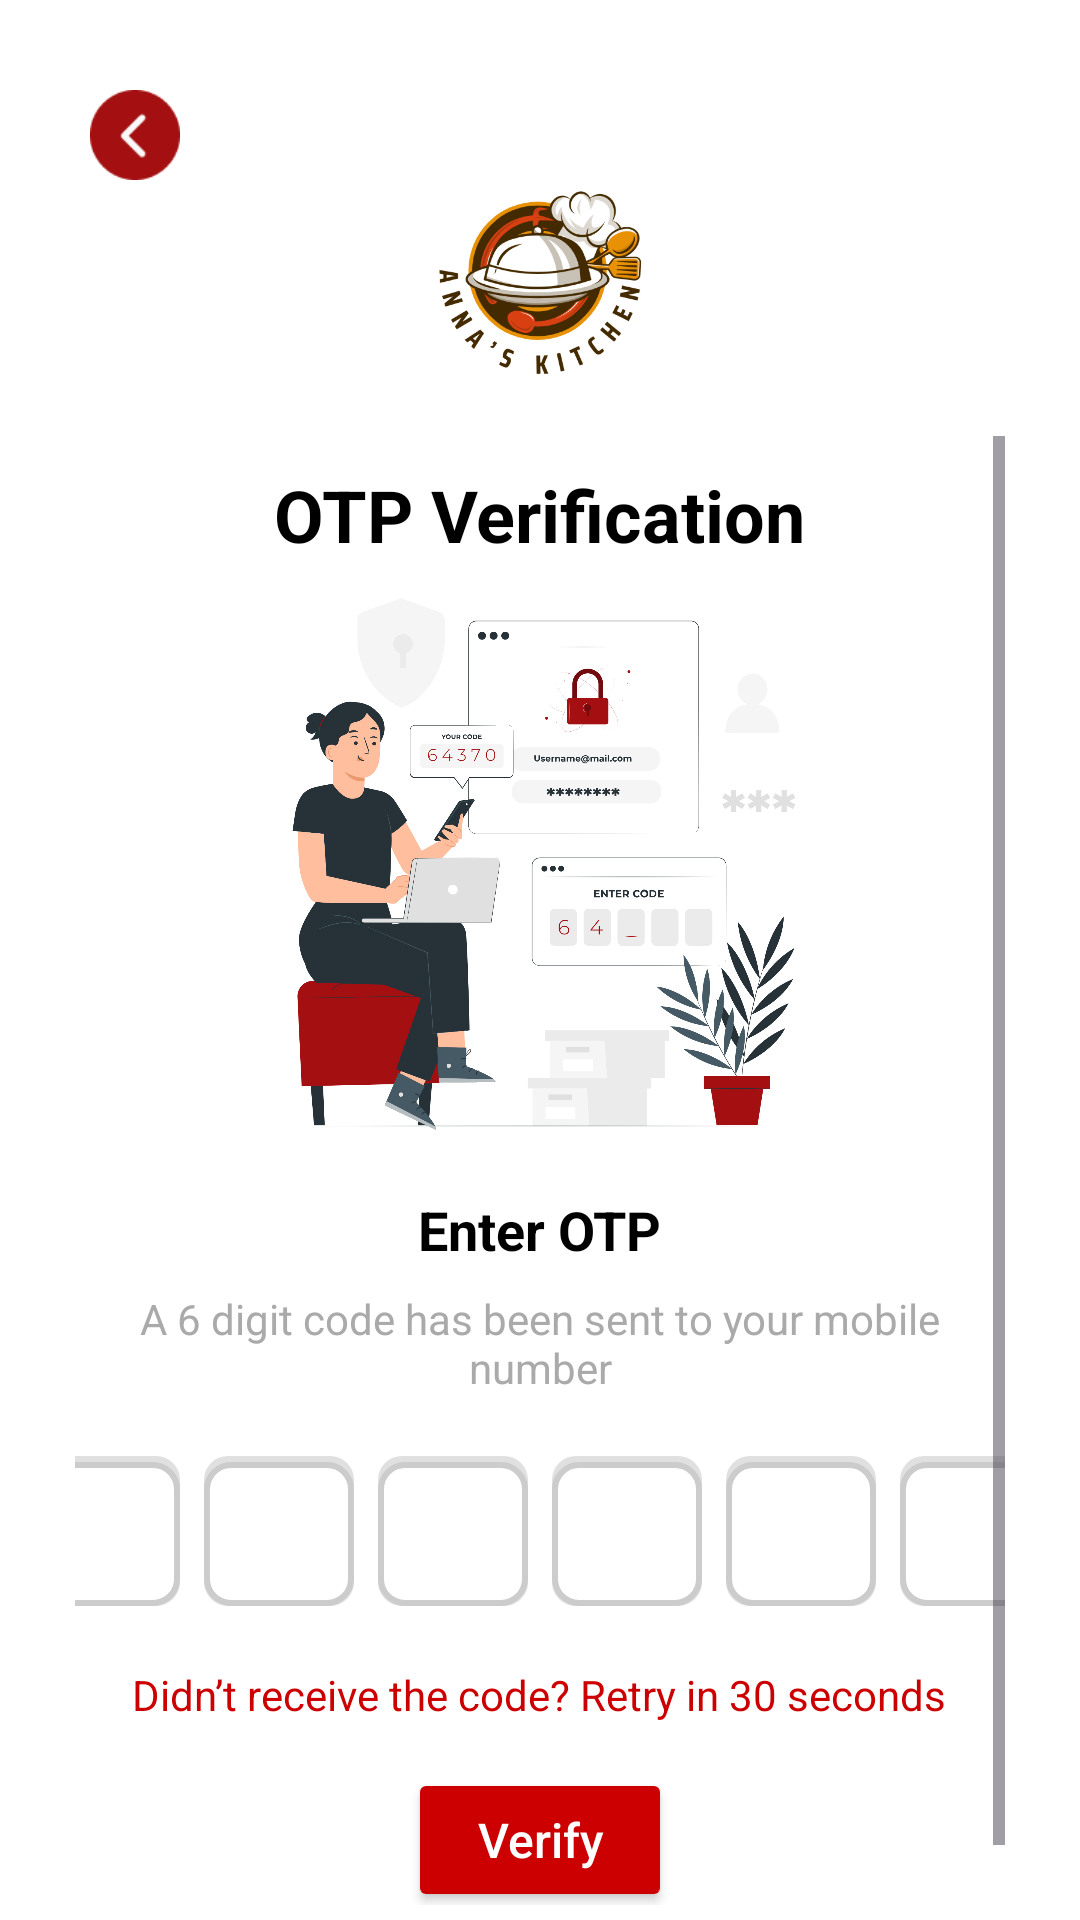

Named icons in this screenshot (1080px x 1920px) and their bounding boxes, (x1, y1, x2, y2):
Back: (90, 90, 180, 180)
